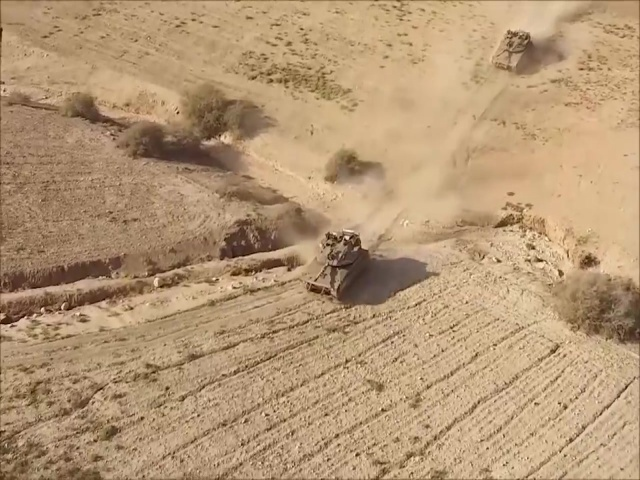vehicle: (300, 230, 370, 299), (492, 30, 534, 73)
